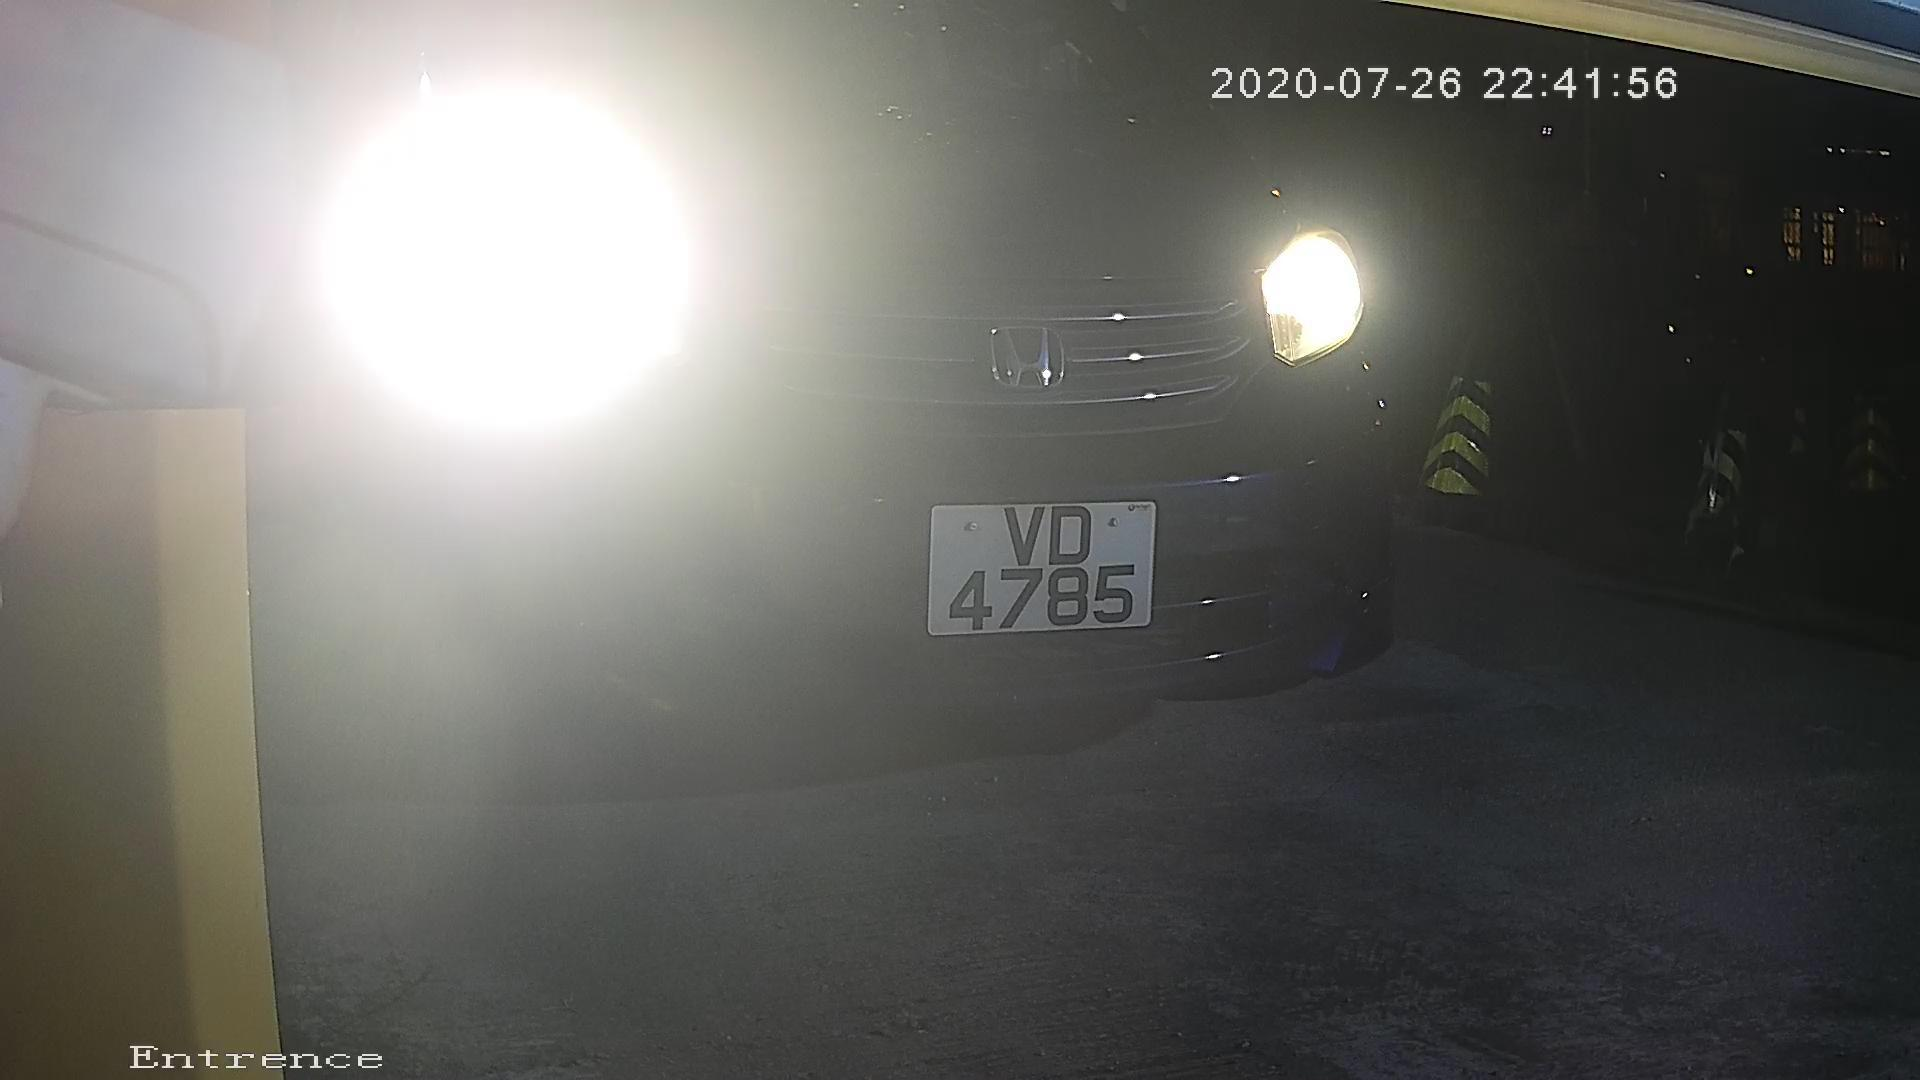Car: (18, 39, 1569, 859)
License Plate: (900, 468, 1183, 661)
